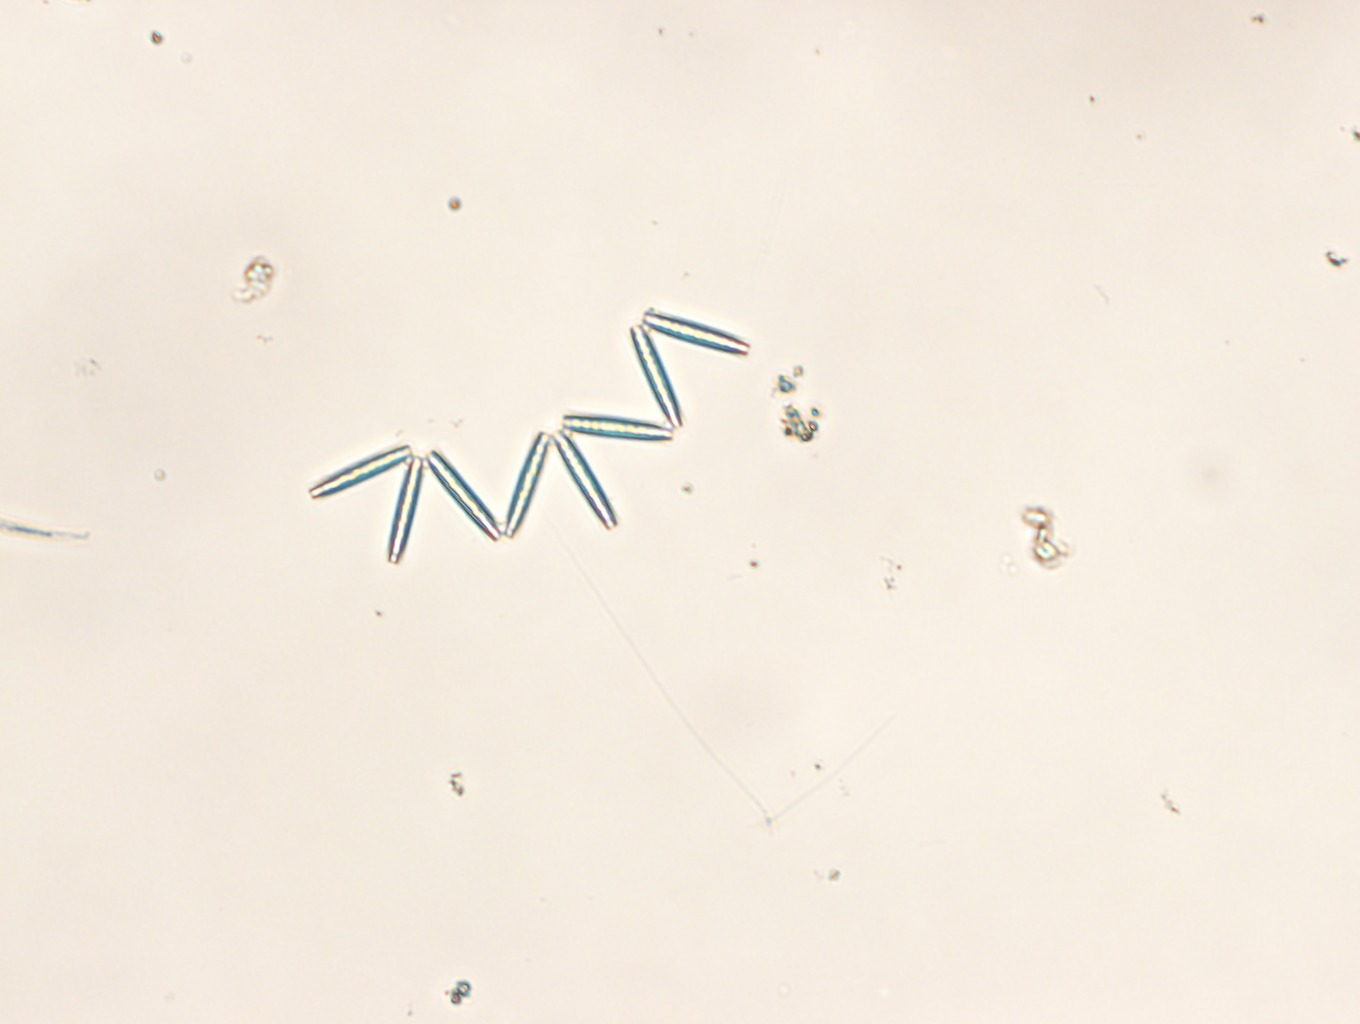thalassionema nitzschioides: (306, 309, 748, 568)
